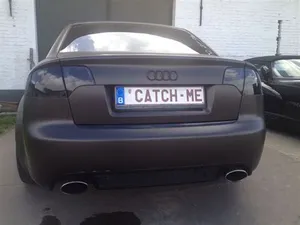number_plate: (113, 86, 208, 110)
